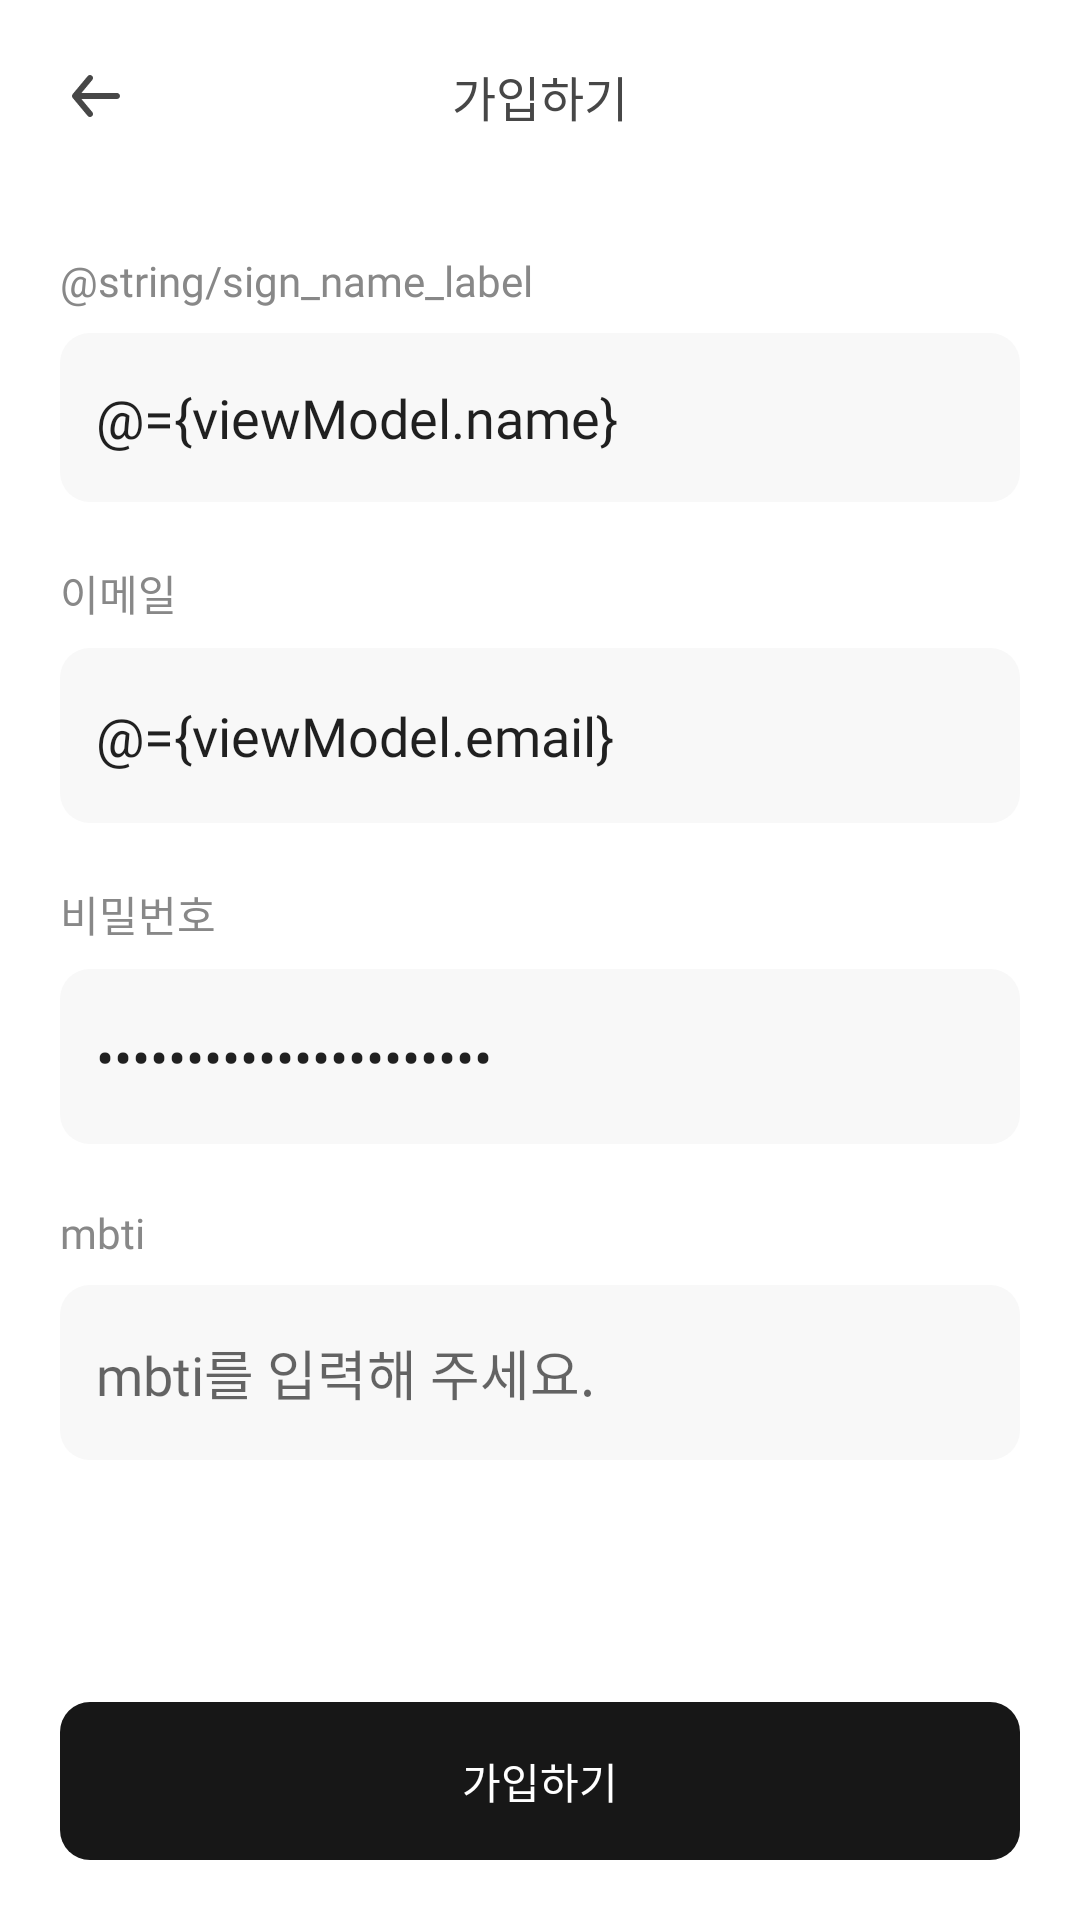

Screen size 1080×1920. Icon name, then its center in pixels as (x=x, y=y):
back: (x=96, y=96)
